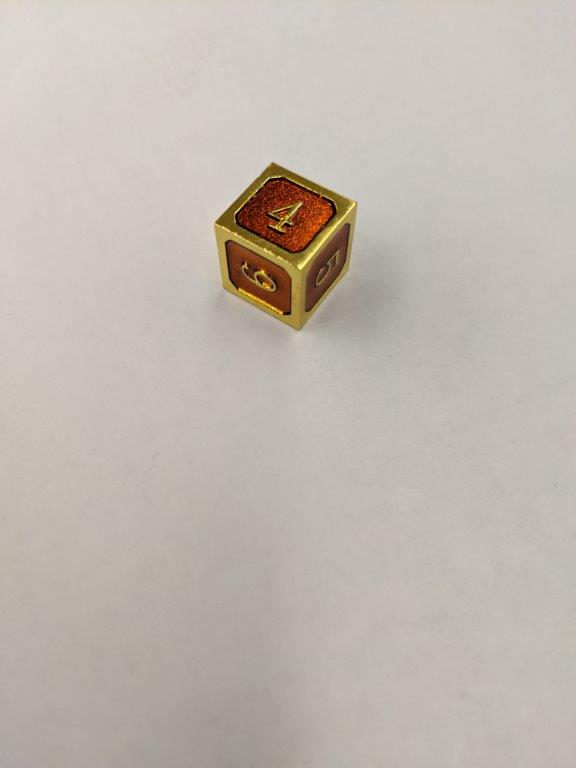d6-4: (213, 161, 356, 331)
